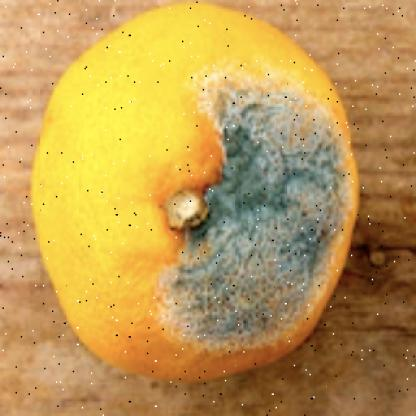rotten: (32, 6, 359, 381)
